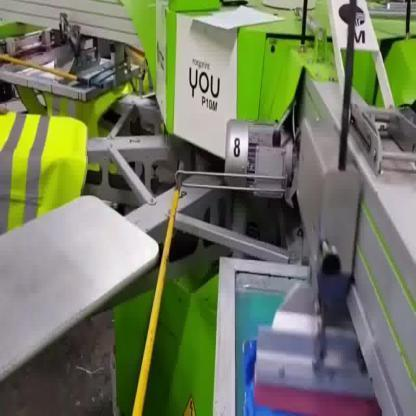vest: (0, 111, 90, 238)
